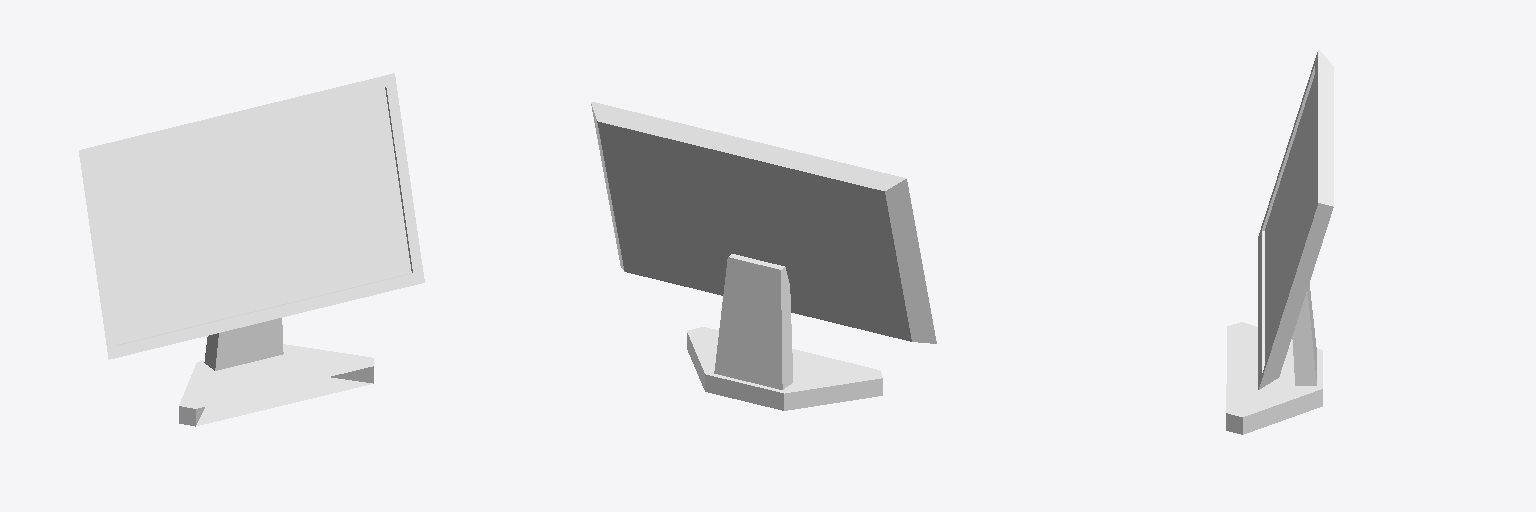
The model's file is heneizhuji.obj.
The picture shows the model from 3 angles: view 1: azimuth 30°, elevation 25°; view 2: azimuth 150°, elevation 25°; view 3: azimuth 270°, elevation 25°; orthographic projection.
Parts seen in each view (by area): view 1: heinenizhuji; view 2: heinenizhuji; view 3: heinenizhuji.
Boxes of the visible parts, x1=… form: heinenizhuji: x1=79, y1=73, x2=424, y2=426; heinenizhuji: x1=591, y1=102, x2=936, y2=410; heinenizhuji: x1=1226, y1=49, x2=1333, y2=434.
Bounding box in the file's own units: 69.95 × 55.03 × 20.66.